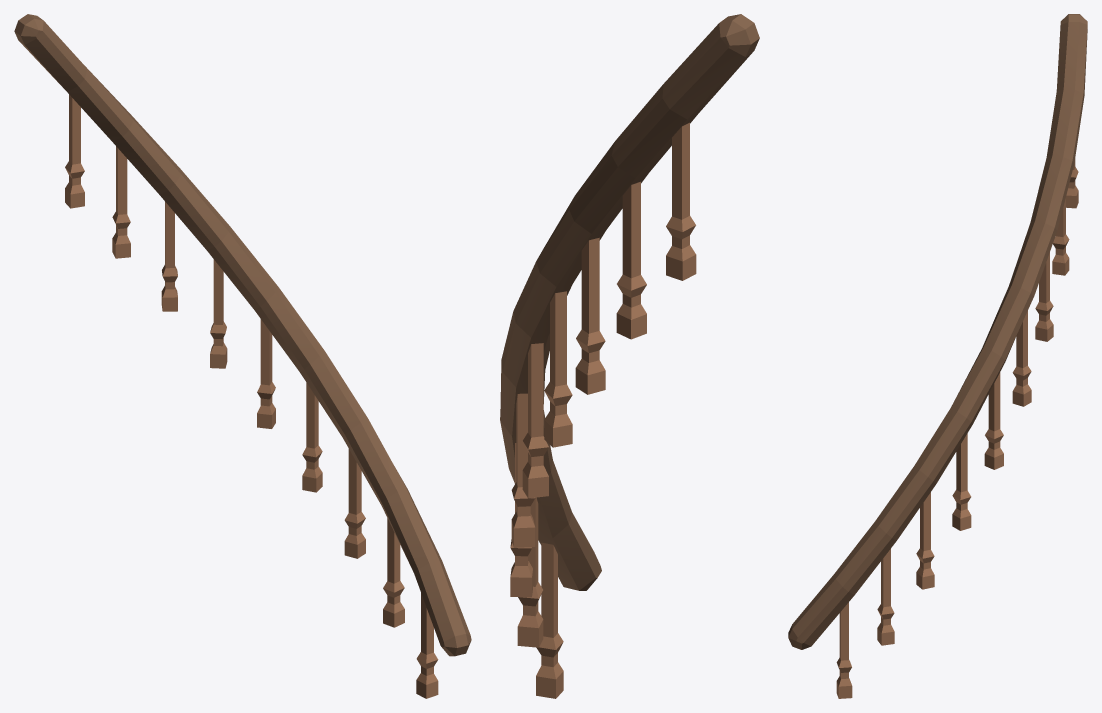
The model's file is Structure_Stairs_Railing_Rising_Curved_Inner.obj.
The picture shows the model from 3 angles, left to right: view 1: azimuth 30°, elevation 25°; view 2: azimuth 150°, elevation 25°; view 3: azimuth 270°, elevation 25°; orthographic projection. The views are drawn at different scales.
Visible parts, largest first — view 1: object1; view 2: object1; view 3: object1.
Boxes of the visible parts, bbox=[...] form: object1: bbox=[14, 14, 471, 698]; object1: bbox=[500, 14, 759, 698]; object1: bbox=[788, 14, 1087, 698].
Size of the model in its own units: 1.1 by 2.3 by 1.1.
